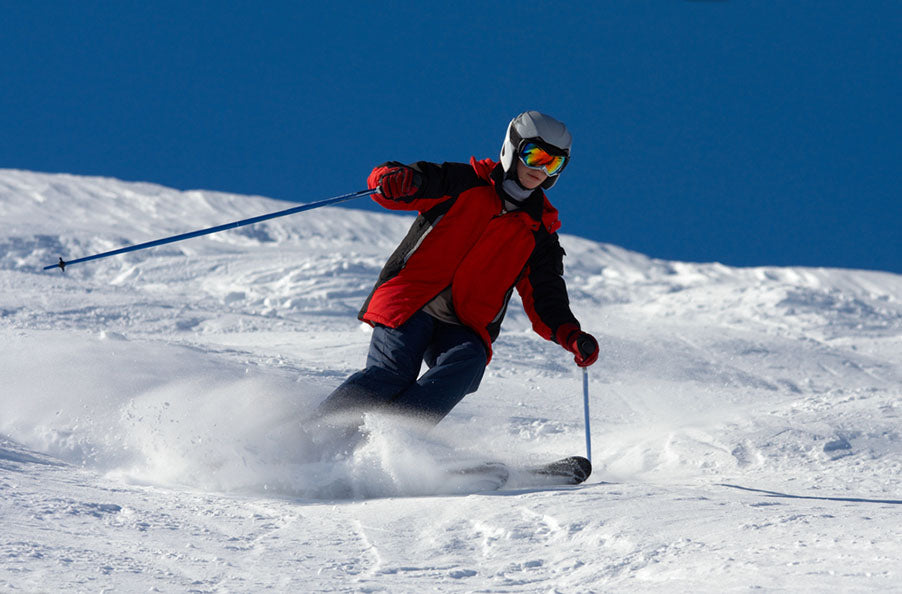skier: (55, 111, 598, 483)
